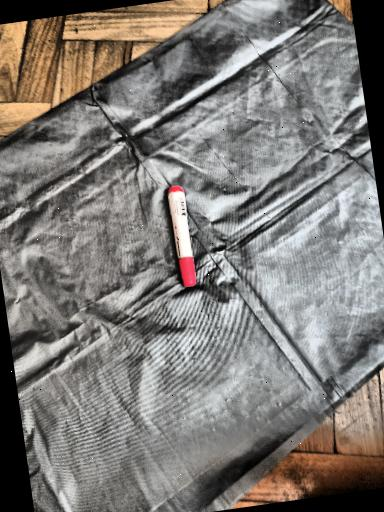marcador rojo: (167, 187, 195, 287)
